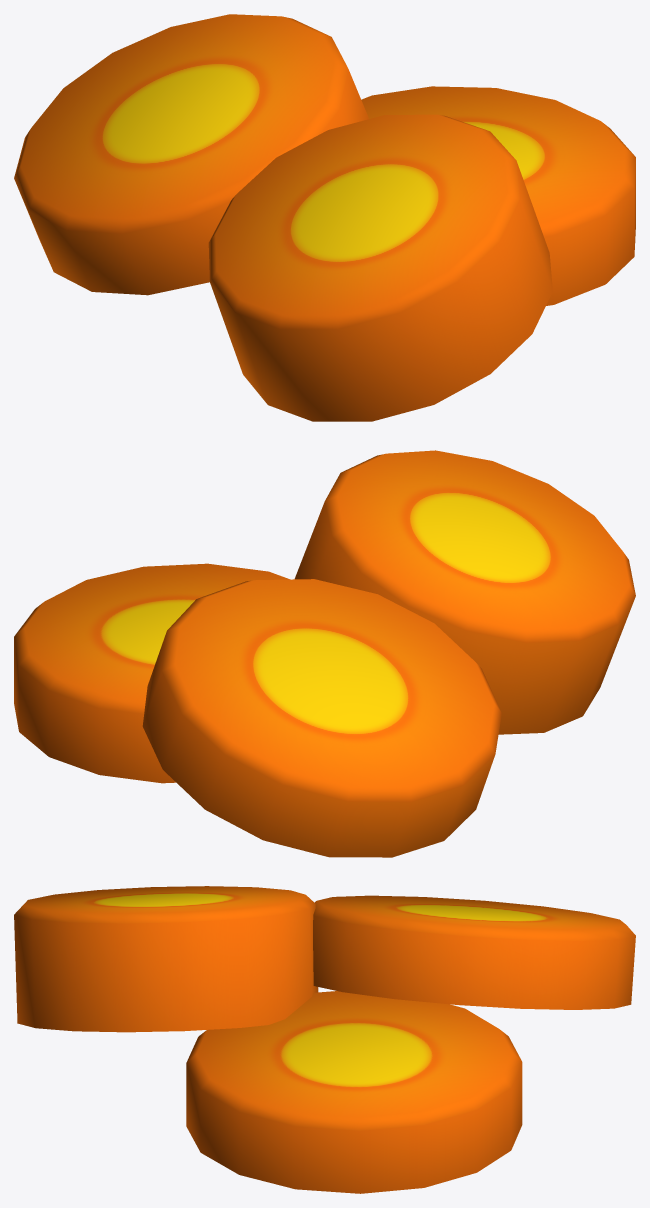
File: SM_Carrot_CB.fbx
3 renders of one model, top to bottom at view 1: azimuth 30°, elevation 25°; view 2: azimuth 150°, elevation 25°; view 3: azimuth 270°, elevation 25°, orthographic. The views are drawn at different scales.
Parts seen in each view (by area): view 1: Carrot_Part.001; view 2: Carrot_Part.001; view 3: Carrot_Part.001.
Boxes of the visible parts, x1,y1,x2,y2 form: Carrot_Part.001: (14, 14, 635, 421); Carrot_Part.001: (14, 450, 635, 857); Carrot_Part.001: (14, 886, 635, 1193).
Bounding box in the file's own units: 65.89 × 25.87 × 76.
